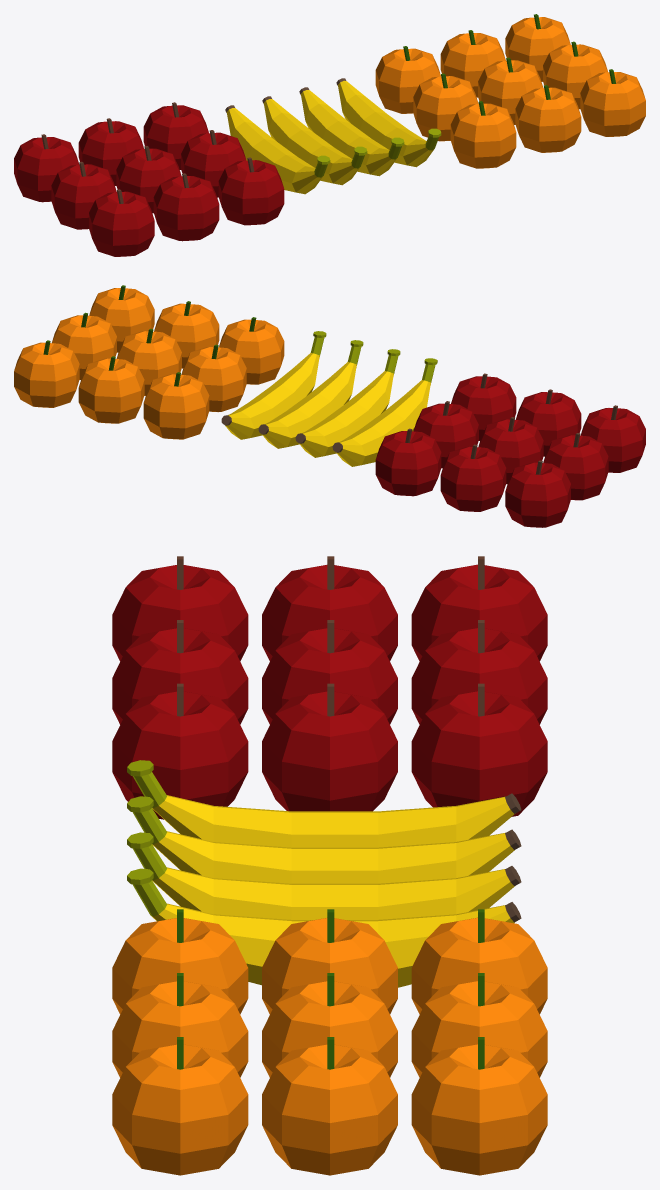
File: frutas.fbx
The picture shows the model from 3 angles, top to bottom: view 1: azimuth 30°, elevation 25°; view 2: azimuth 150°, elevation 25°; view 3: azimuth 270°, elevation 25°; orthographic projection. The views are drawn at different scales.
Parts seen in each view (by area): view 1: Sphere, Sphere.002, Sphere.001, Cube, Cube.001; view 2: Sphere.002, Sphere, Sphere.001, Cube.001, Cube; view 3: Sphere.002, Sphere, Sphere.001, Cube, Cube.001.
Boxes of the visible parts, left/top/right/bottom form: Sphere: left=14, top=105, right=284, bottom=256; Sphere.002: left=375, top=17, right=645, bottom=168; Sphere.001: left=225, top=78, right=441, bottom=194; Cube: left=41, top=102, right=254, bottom=203; Cube.001: left=403, top=14, right=615, bottom=115; Sphere.002: left=14, top=288, right=284, bottom=439; Sphere: left=375, top=376, right=645, bottom=527; Sphere.001: left=221, top=331, right=437, bottom=466; Cube.001: left=43, top=285, right=256, bottom=386; Cube: left=405, top=373, right=617, bottom=474; Sphere.002: left=112, top=917, right=547, bottom=1175; Sphere: left=112, top=564, right=547, bottom=819; Sphere.001: left=127, top=760, right=521, bottom=987; Cube: left=177, top=556, right=484, bottom=716; Cube.001: left=177, top=909, right=484, bottom=1069.
Size of the model in its own units: 65.37 by 7.68 by 22.4.
